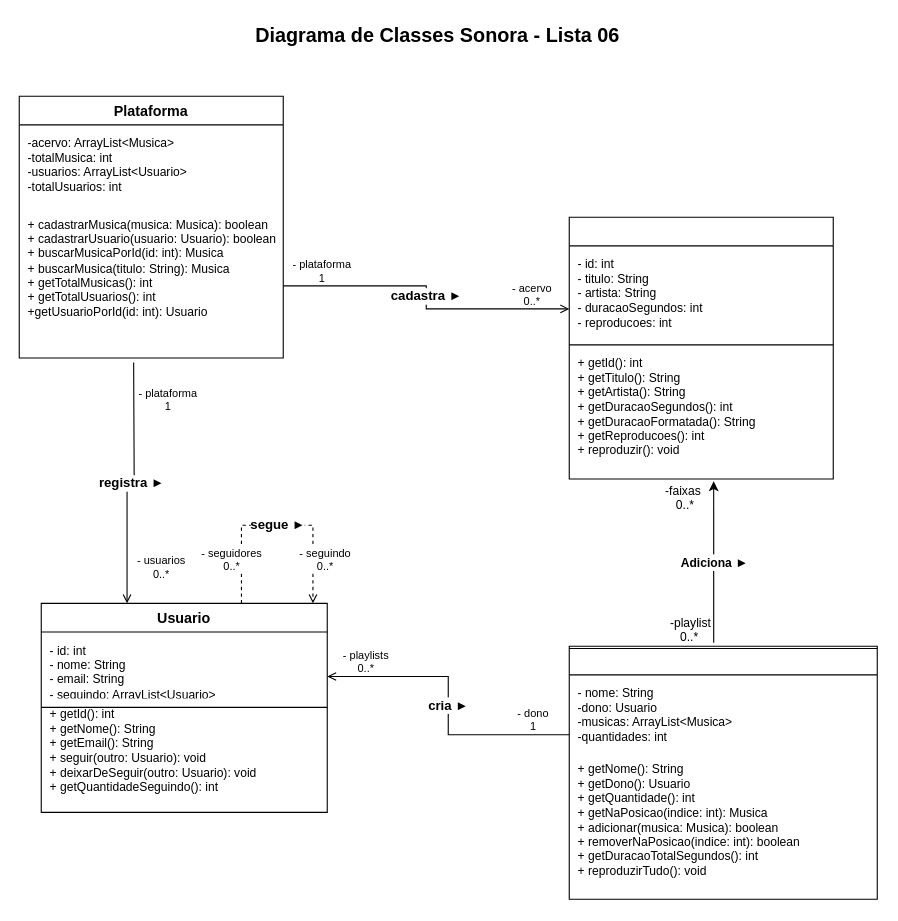
Some shapes in this 898 by 921 pixel diagram are drawn without their labels. Here are the shapes that lost their labels. From the top down, the box of each, then its label:
(568, 216, 833, 479): Musica
(568, 645, 877, 899): Playlist
